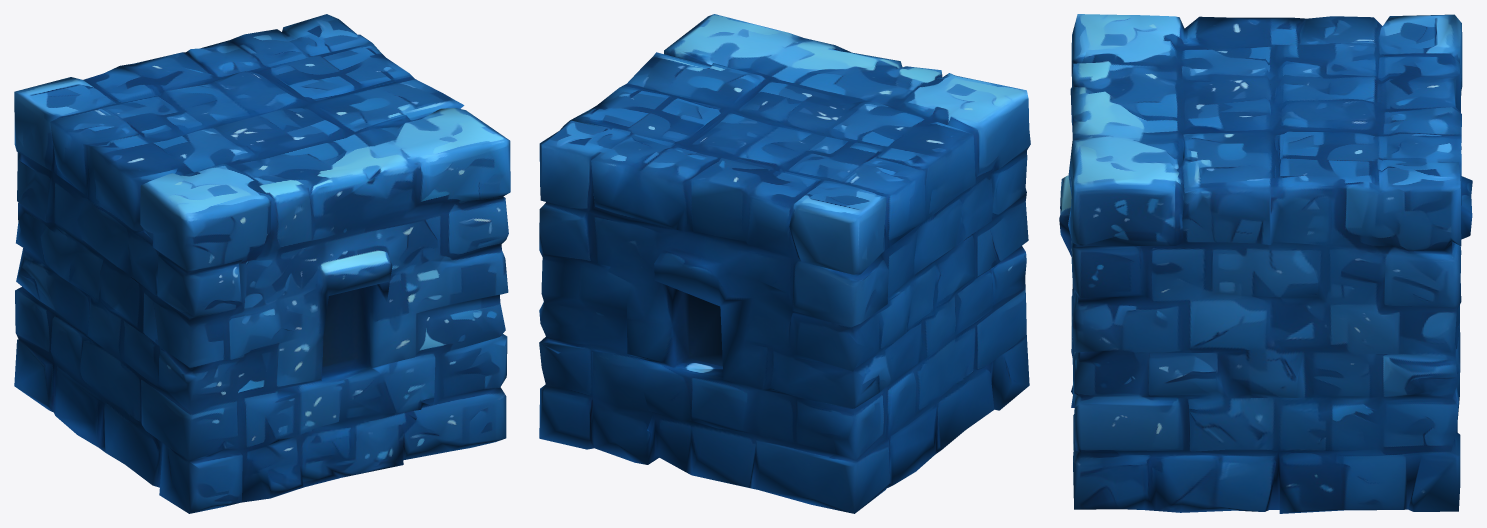
Rendered from Wall_C3_B.glb.
The picture shows the model from 3 angles, left to right: view 1: azimuth 30°, elevation 25°; view 2: azimuth 150°, elevation 25°; view 3: azimuth 270°, elevation 25°; orthographic projection. The views are drawn at different scales.
Visible parts, largest first — view 1: tripo_node_2291ea95-ec63-4ba1-a287-60b24910d7dc; view 2: tripo_node_2291ea95-ec63-4ba1-a287-60b24910d7dc; view 3: tripo_node_2291ea95-ec63-4ba1-a287-60b24910d7dc.
Part boxes in pixels (x1,y1,x2,y2): tripo_node_2291ea95-ec63-4ba1-a287-60b24910d7dc: (14, 14, 510, 513); tripo_node_2291ea95-ec63-4ba1-a287-60b24910d7dc: (539, 14, 1030, 513); tripo_node_2291ea95-ec63-4ba1-a287-60b24910d7dc: (1059, 14, 1472, 513).
Size of the model in its own units: 1 by 0.8828 by 0.9941.
Materials: 1 (1 with a texture image).
